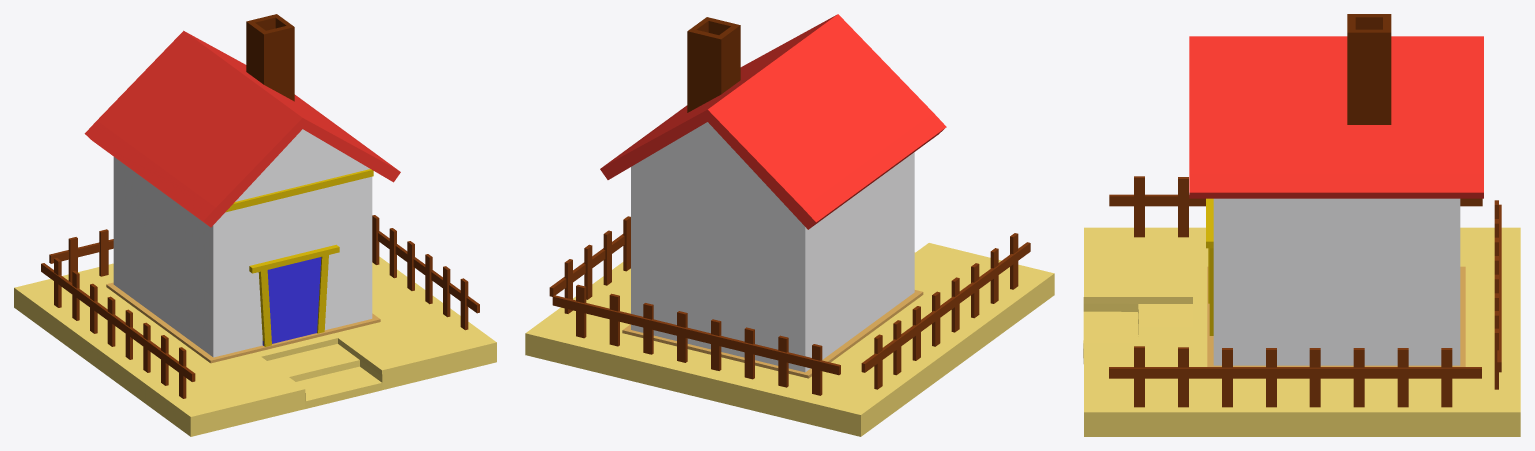
The model's file is Simple house.glb.
The picture shows the model from 3 angles, left to right: view 1: azimuth 30°, elevation 25°; view 2: azimuth 150°, elevation 25°; view 3: azimuth 270°, elevation 25°; orthographic projection. The views are drawn at different scales.
Parts seen in each view (by area): view 1: Cube.004, Cube.007, Cube.005, Cube, Cube.008, Cube.036, Cube.033, Cube.006, Cube.035, Cube.003, Cube.001, Cube.002 (+1 smaller); view 2: Cube.004, Cube.007, Cube.005, Cube.008, Cube.034, Cube.033, Cube.036, Cube.035; view 3: Cube.007, Cube.005, Cube.004, Cube.008, Cube.035, Cube.036, Cube.033, Cube.011, Cube.009, Cube.016, Cube.021, Cube.022 (+7 smaller).
Part boxes in pixels (x1,y1,x2,y2): Cube.004: [113, 129, 372, 357]; Cube.007: [14, 256, 496, 436]; Cube.005: [84, 30, 400, 227]; Cube: [262, 257, 321, 345]; Cube.008: [246, 14, 294, 101]; Cube.036: [106, 282, 380, 363]; Cube.033: [41, 263, 195, 381]; Cube.006: [226, 169, 373, 212]; Cube.035: [378, 231, 479, 313]; Cube.003: [249, 244, 339, 273]; Cube.001: [258, 270, 271, 346]; Cube.002: [317, 255, 328, 333]; Cube.004: [631, 122, 914, 372]; Cube.007: [525, 243, 1054, 436]; Cube.005: [600, 14, 946, 229]; Cube.008: [687, 17, 740, 112]; Cube.034: [552, 295, 840, 375]; Cube.033: [861, 242, 1030, 372]; Cube.036: [622, 290, 923, 378]; Cube.035: [549, 234, 624, 296]; Cube.007: [1083, 227, 1520, 436]; Cube.005: [1189, 36, 1483, 198]; Cube.004: [1213, 198, 1460, 365]; Cube.008: [1347, 14, 1391, 124]; Cube.035: [1109, 367, 1481, 378]; Cube.036: [1207, 266, 1465, 366]; Cube.033: [1109, 194, 1482, 206]; Cube.011: [1134, 176, 1144, 237]; Cube.009: [1178, 177, 1188, 237]; Cube.016: [1441, 348, 1452, 407]; Cube.021: [1309, 348, 1320, 407]; Cube.022: [1353, 348, 1364, 407].
Bounding box in the file's own units: 3.98 × 3.49 × 3.98.
8 materials, 2 textured.
